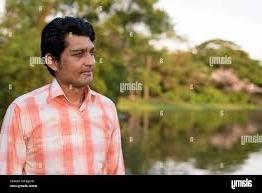Human: (4, 11, 124, 181)
